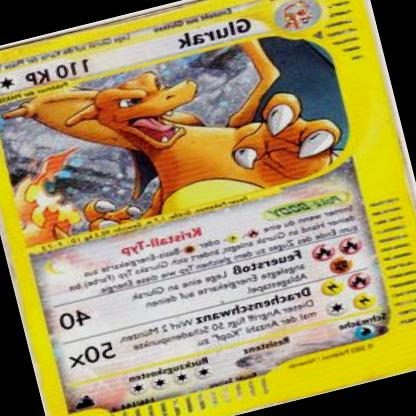Squirtle: (3, 28, 338, 245)
